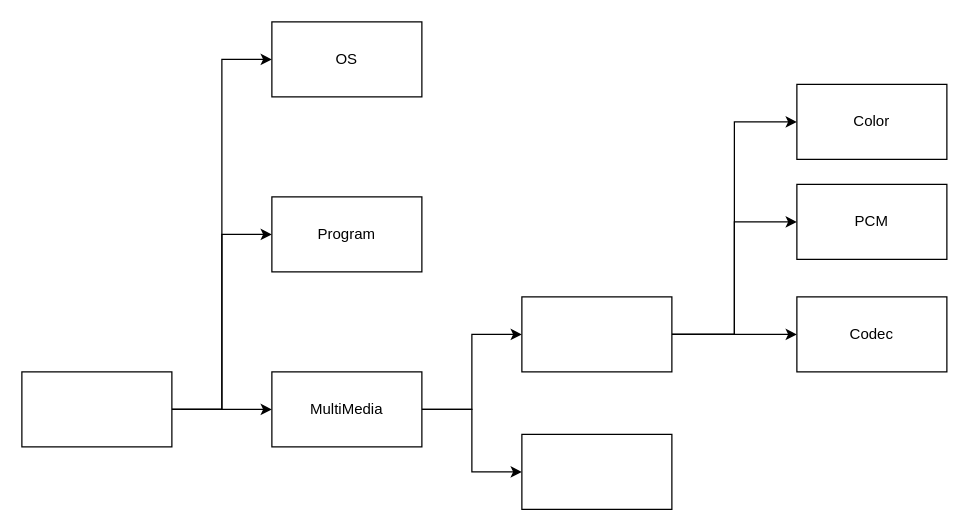
This 969x531 diagram has some shape labels left out. Here are the shapes that lost their labels. From the top down, the centre of each, then its label:
the point at 596,334: Player/Editor
the point at 96,409: Knowledge System
the point at 596,471: Render
